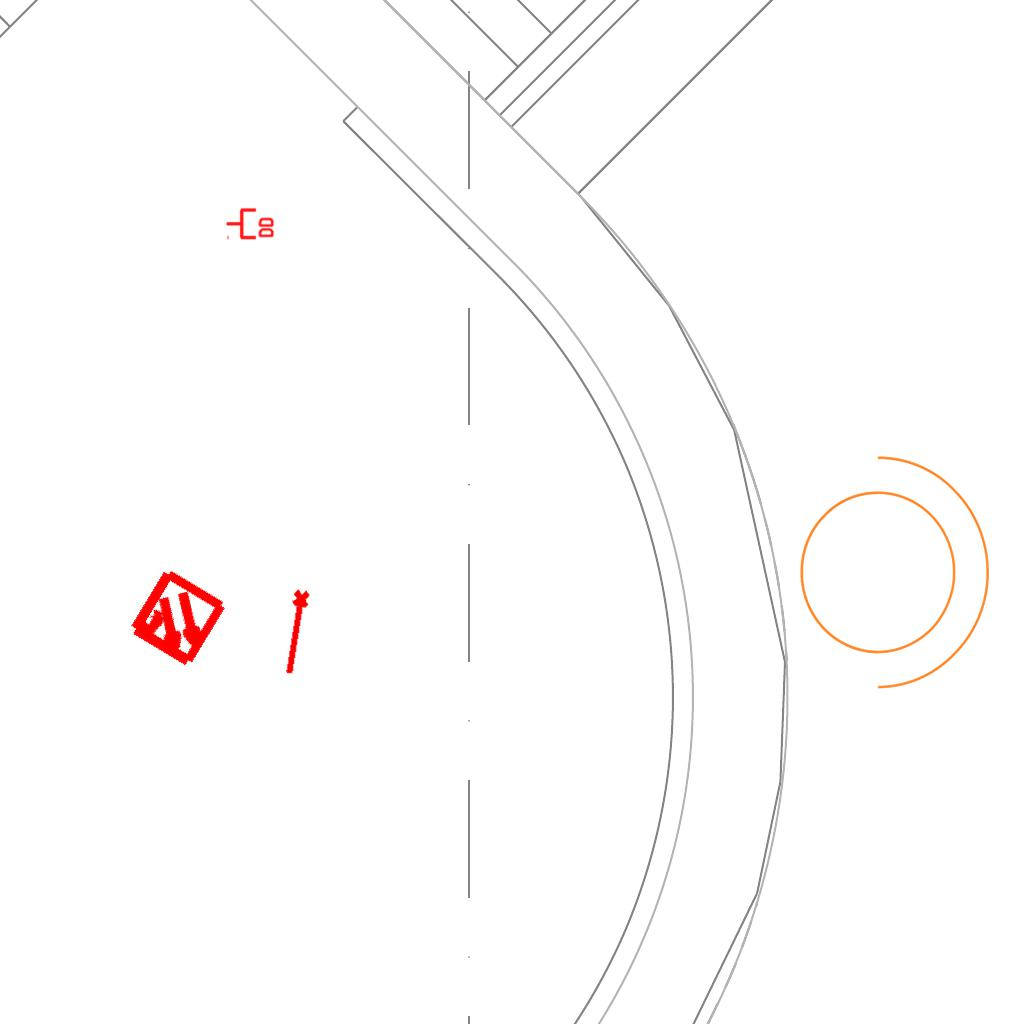ASR_Ansaugoeffnung: (278, 587, 316, 678)
Datenanschluss_zweifach: (225, 206, 276, 240)
OT_Multisensormelder_(Kombination_RMO_WMD): (98, 541, 255, 698)
Scheinwerfer_fuer_Alarmbeleuchtung: (775, 434, 1000, 698)
